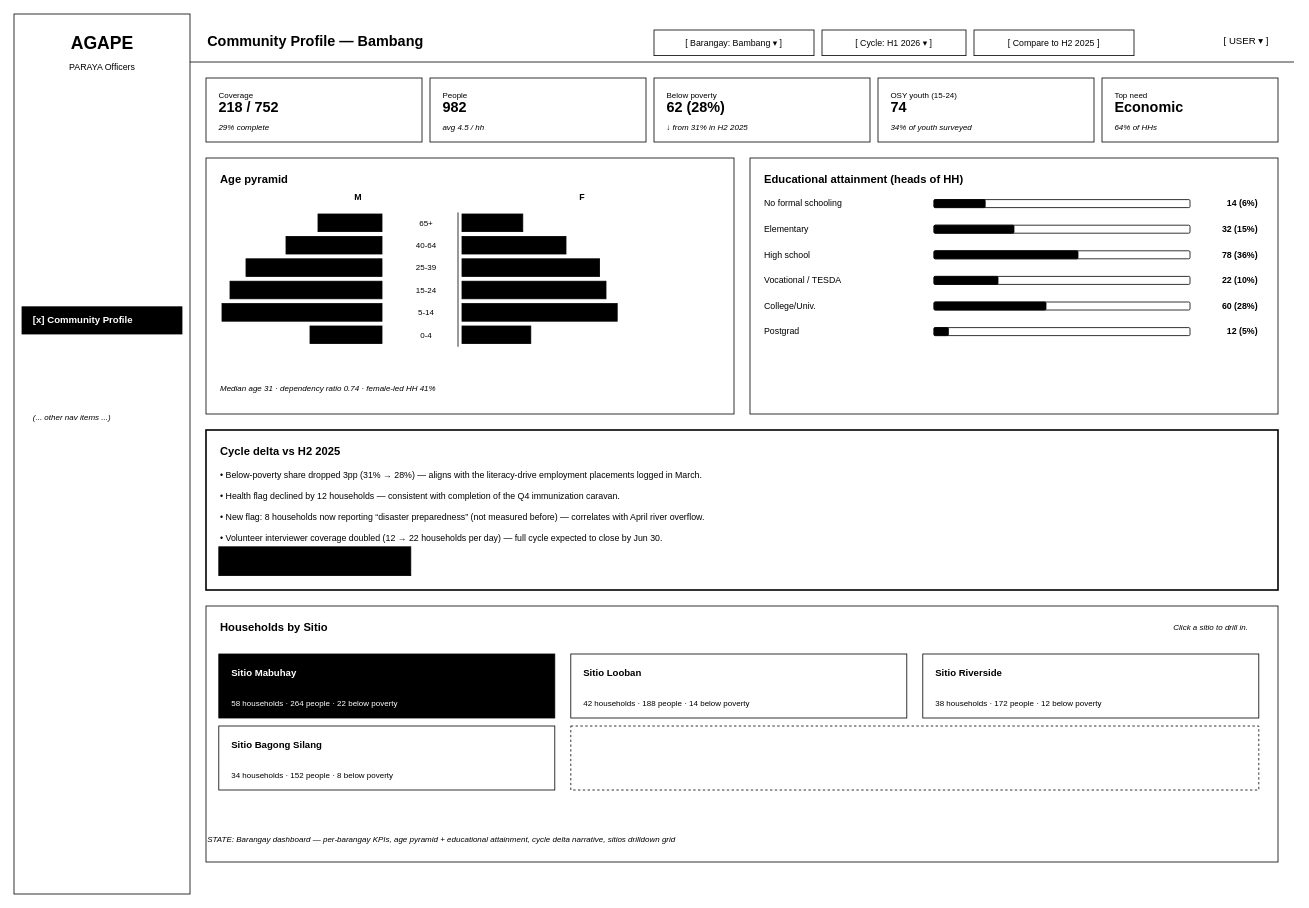
This 1309x908 diagram has some shape labels left out. Here are the shapes that lost their labels. From the top down, the centre of each, then its label:
pixel 314 561: [ Export comparative report ]
pixel 914 757: + 2 more sitios with partial coverage (Sitio Hulo, Sitio Bayan-Bayanan)
